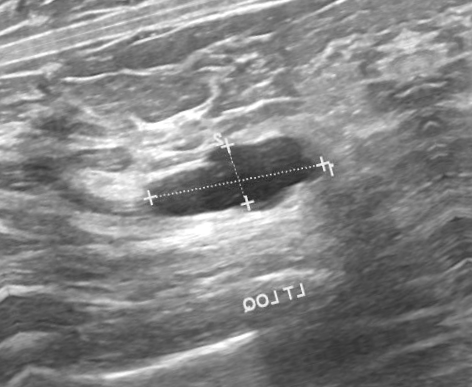Benign: (151, 137, 324, 216)
